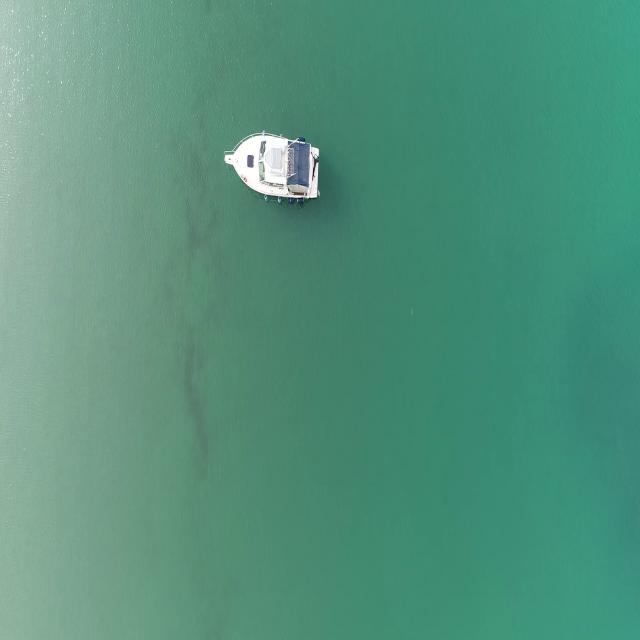boat: (223, 129, 321, 207)
